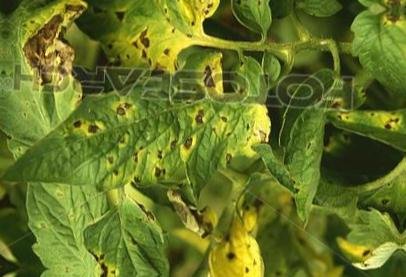Tomato Early blight leaf: (7, 81, 280, 199), (80, 0, 212, 85), (1, 0, 82, 125), (343, 7, 406, 99), (212, 229, 303, 277)
